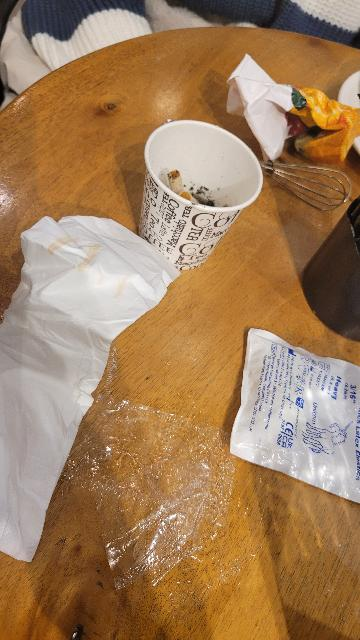Kagit: (0, 195, 187, 563), (140, 106, 265, 272), (221, 55, 360, 166)
Metal: (260, 150, 358, 217)
Plastik: (234, 305, 360, 535)
